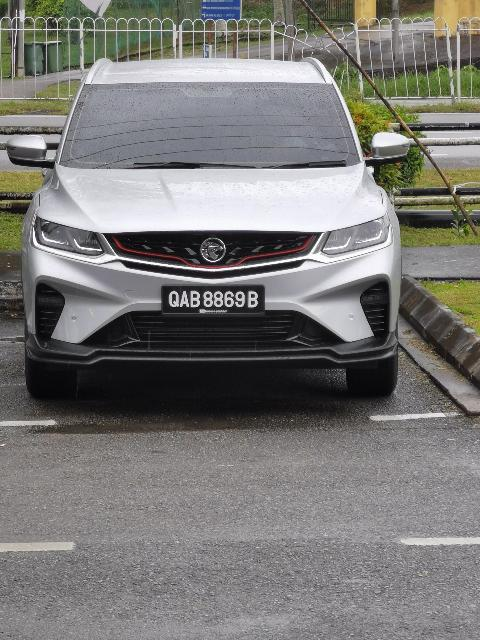License_Plate: (163, 286, 266, 315)
car: (7, 49, 414, 406)
